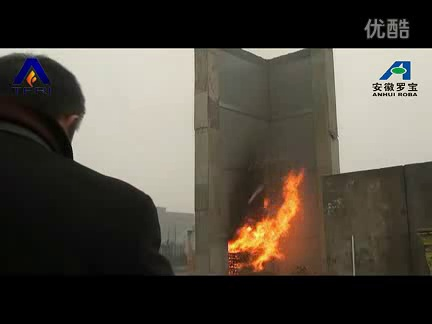fire: (226, 165, 309, 274)
